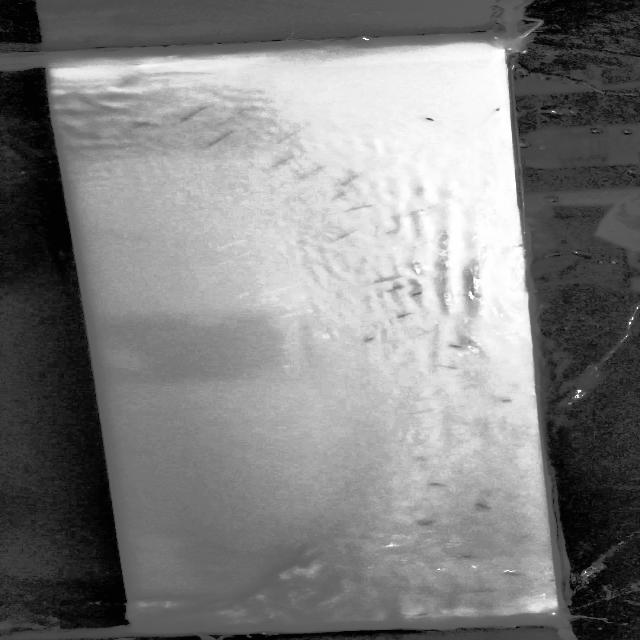shrimp: (291, 172, 329, 190), (173, 106, 209, 124), (325, 227, 363, 243), (492, 395, 526, 412), (341, 168, 363, 189), (210, 130, 238, 146), (420, 114, 453, 126), (126, 119, 155, 131), (382, 275, 407, 288), (357, 334, 381, 347), (487, 103, 507, 118), (270, 154, 295, 166), (425, 478, 458, 487), (388, 310, 417, 320), (412, 517, 441, 527), (446, 340, 470, 352), (327, 193, 353, 204), (444, 361, 461, 376), (405, 289, 428, 300), (477, 501, 498, 513), (469, 588, 504, 595), (345, 204, 369, 214), (454, 552, 477, 562), (386, 285, 406, 294)
